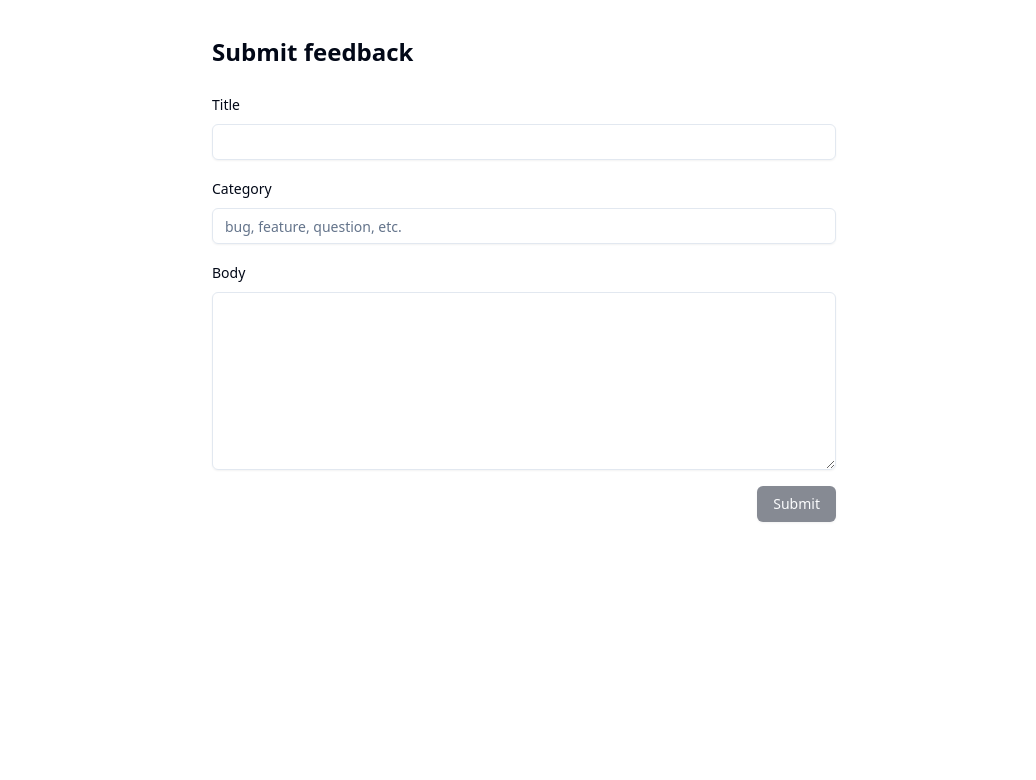
Test case: NewFeedbackPage › submits POST /api/feedback and navigates to /feedback on success
This screenshot has width=1036, height=780.
Type "Bug report" into the field labelled "Title" at (524, 142), box [212,124,836,160]
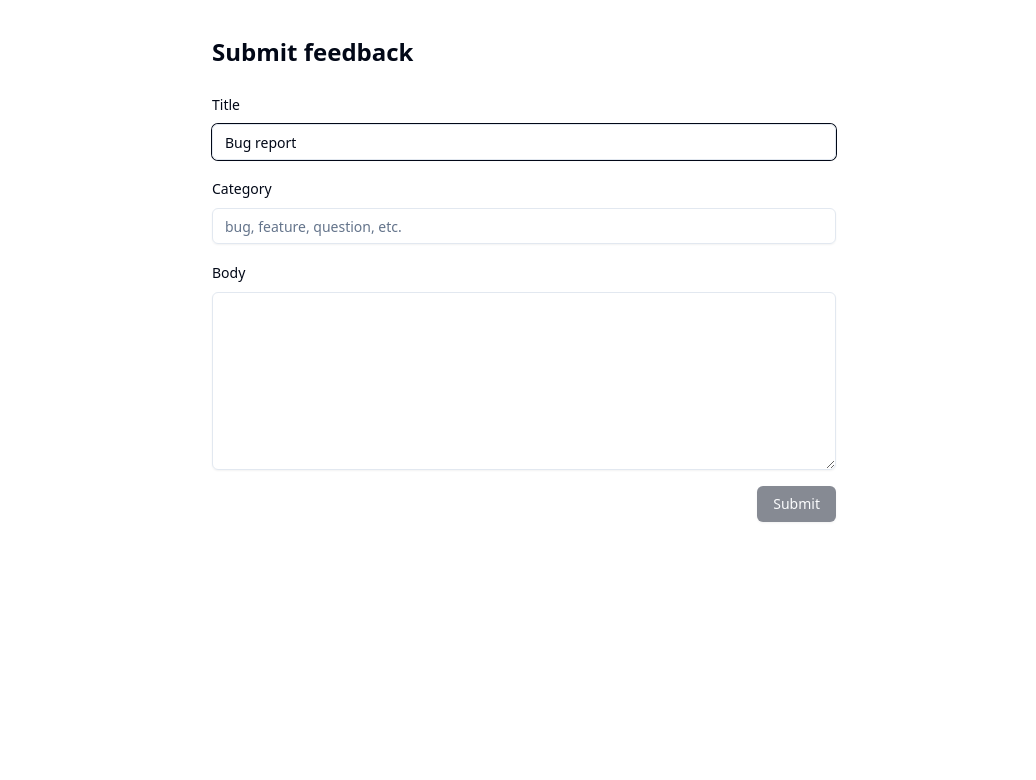
Type "bug" into the field labelled "Category" at (524, 226), box [212,208,836,244]
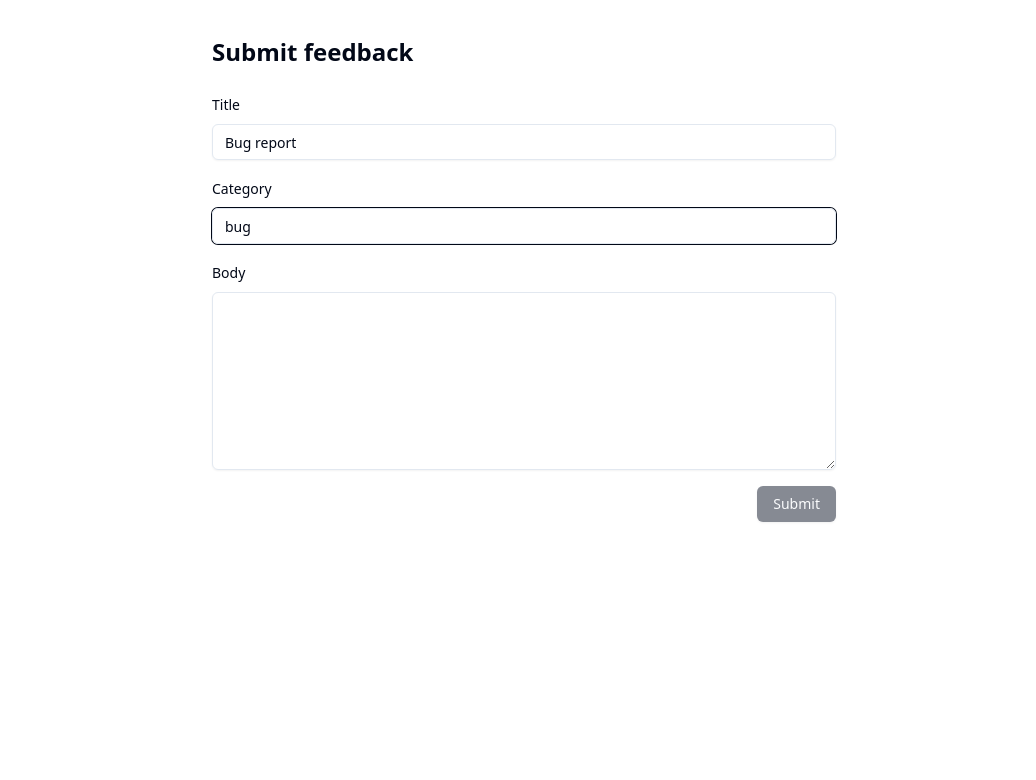
Type "Something is broken." into the text box labelled "Body" at (524, 381), box [212,292,836,470]
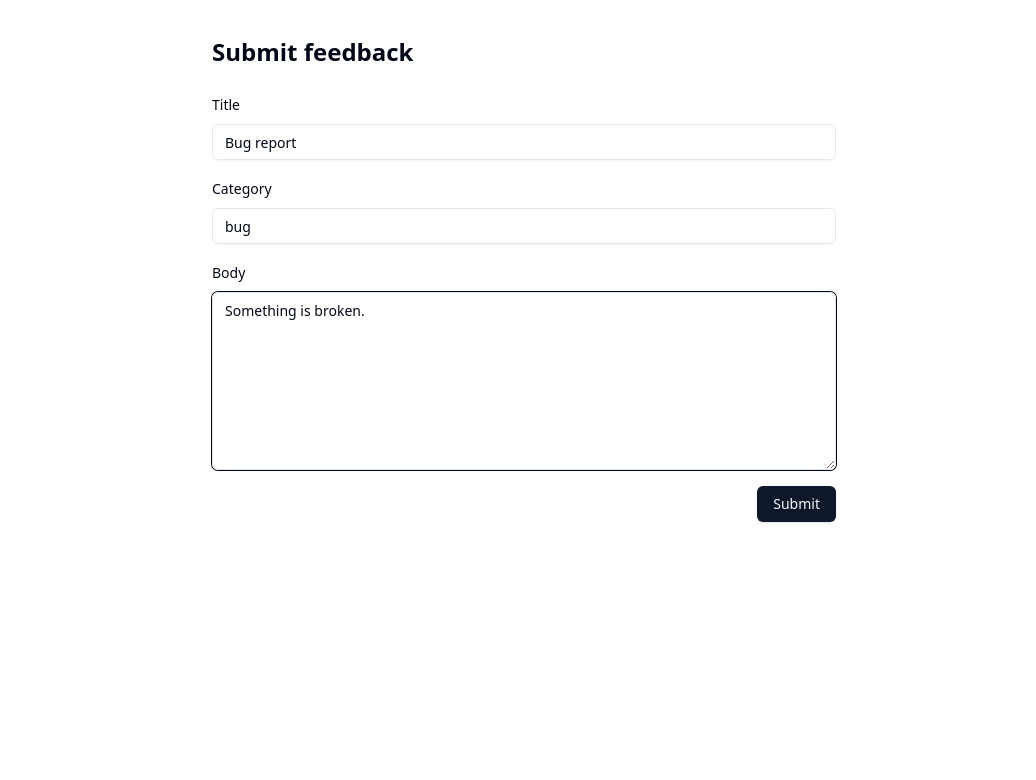
Click the button "Submit" at (797, 504), box [757,486,836,522]
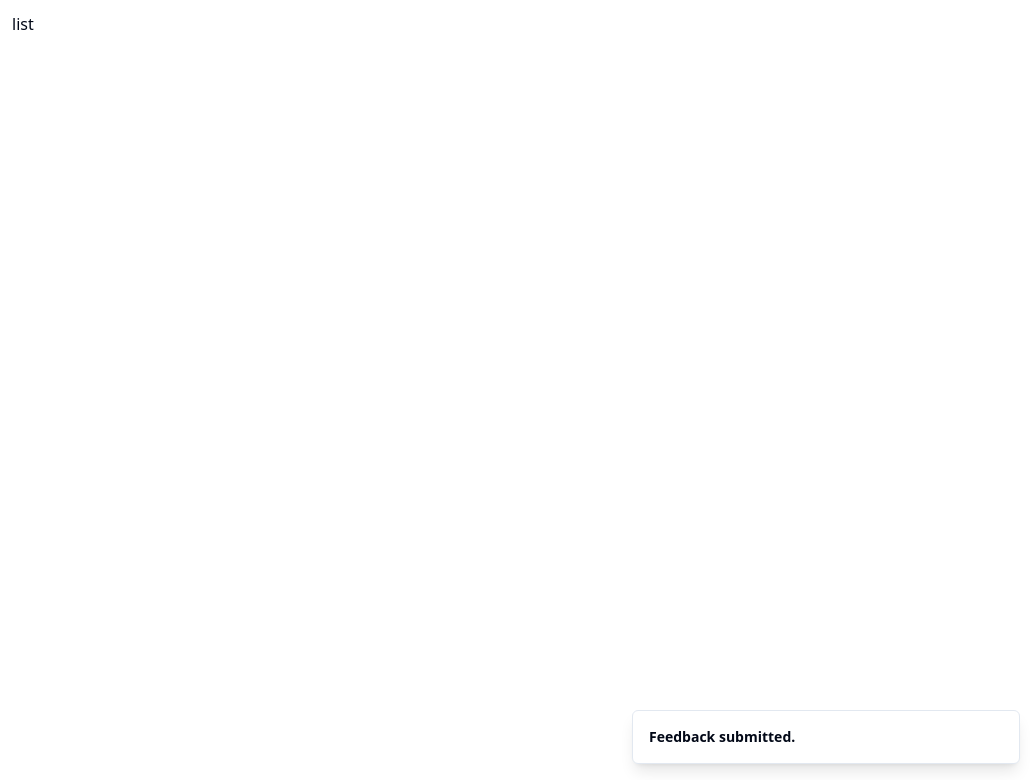
Now the text "list" is shown, box [12,13,34,35]
